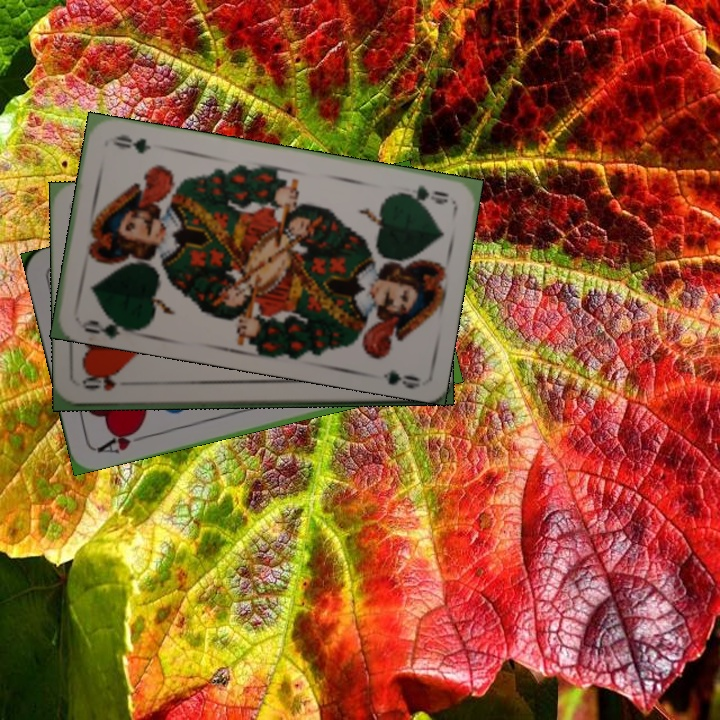GO: (77, 311, 136, 340), (394, 181, 452, 207)
HA: (93, 423, 144, 457)
HO: (79, 374, 119, 393)
